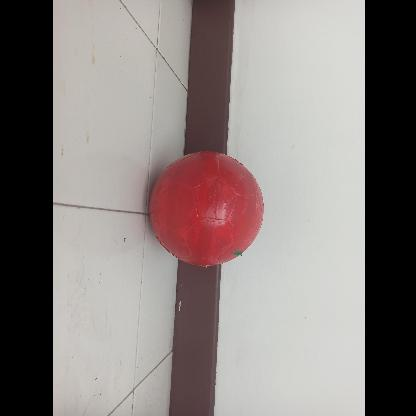red_ball: (151, 149, 265, 263)
